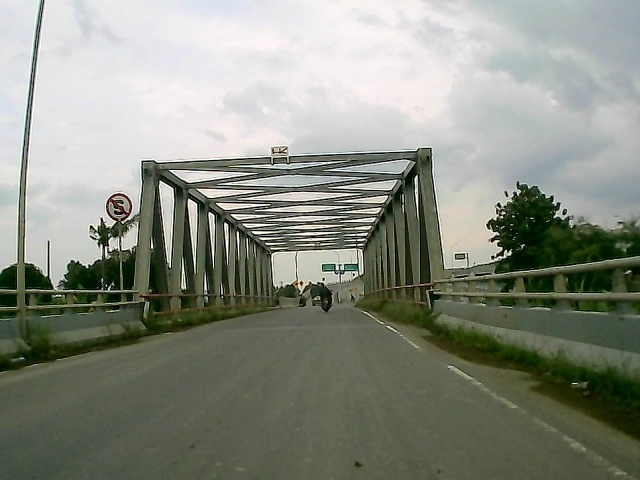Dilarang berhenti: (103, 191, 134, 225)
